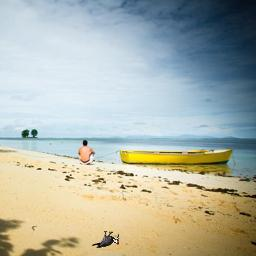Woodpecker: (93, 232, 120, 249)
